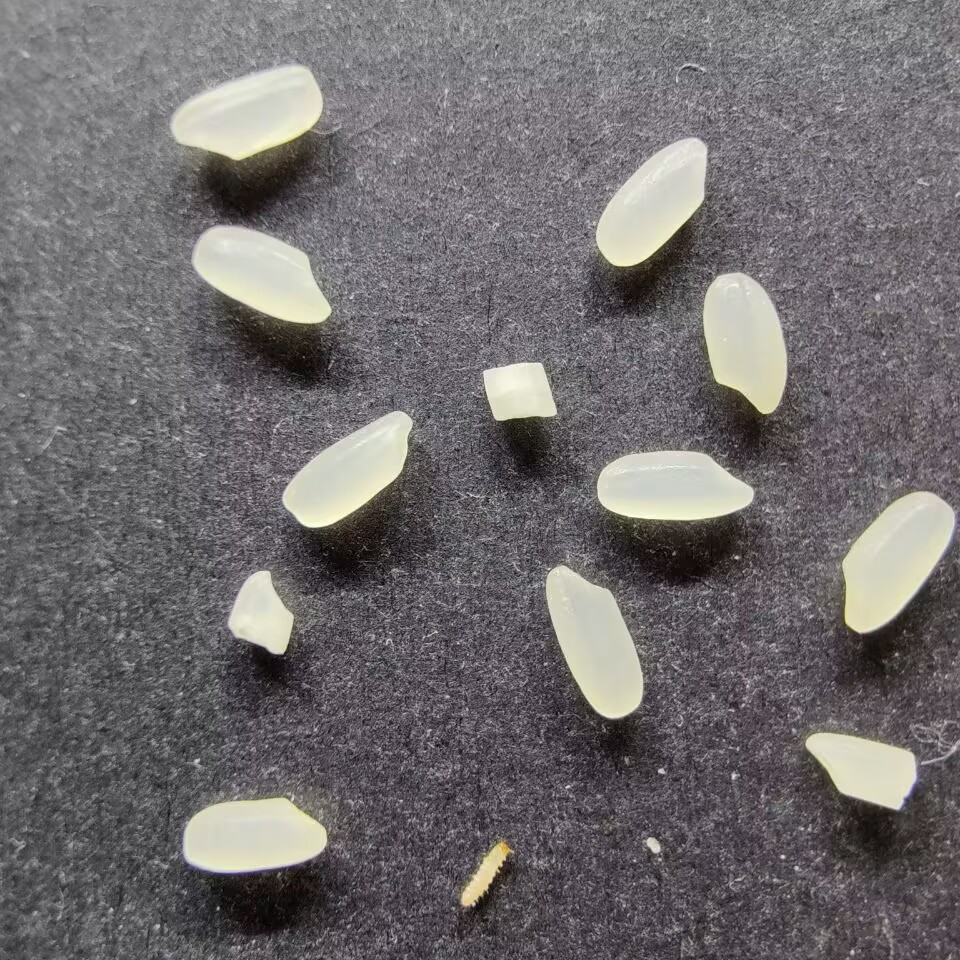broken: (804, 732, 917, 811), (226, 569, 294, 655), (481, 361, 558, 422)
others: (460, 838, 513, 910)
rice: (841, 491, 955, 633), (281, 409, 413, 528), (544, 564, 644, 720), (594, 136, 708, 267), (170, 63, 322, 161), (191, 224, 332, 324), (702, 272, 788, 415), (596, 450, 754, 520), (182, 797, 327, 873)
